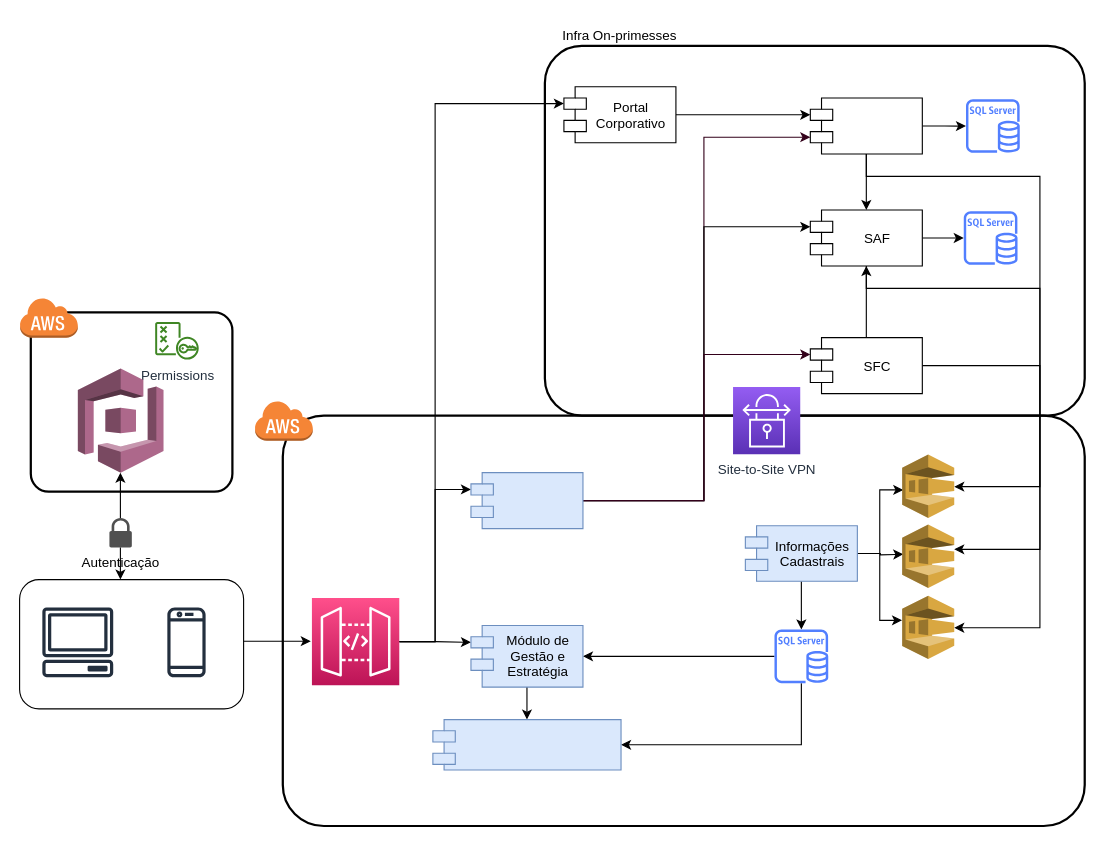
The diagram is 1105 pixels wide and 846 high, and some of its shapes have lost their labels. The shapes that lost their labels are listed below. From the top down, each one's centre as x and y in pixels, then its label:
the point at 865,125: SGE
the point at 526,500: Módulo de Serviços ao Cliente
the point at 355,641: Api Gateway
the point at 526,744: Data Warehouse (DW) e Business Intelligence (BI)
